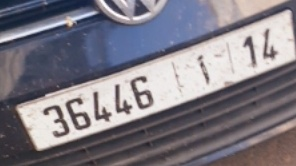1: (241, 32, 261, 69)
3: (44, 99, 71, 142)
4: (260, 27, 283, 63), (91, 85, 111, 126), (112, 81, 134, 118)
6: (65, 90, 92, 134), (129, 74, 157, 112)
a: (194, 53, 216, 89)
